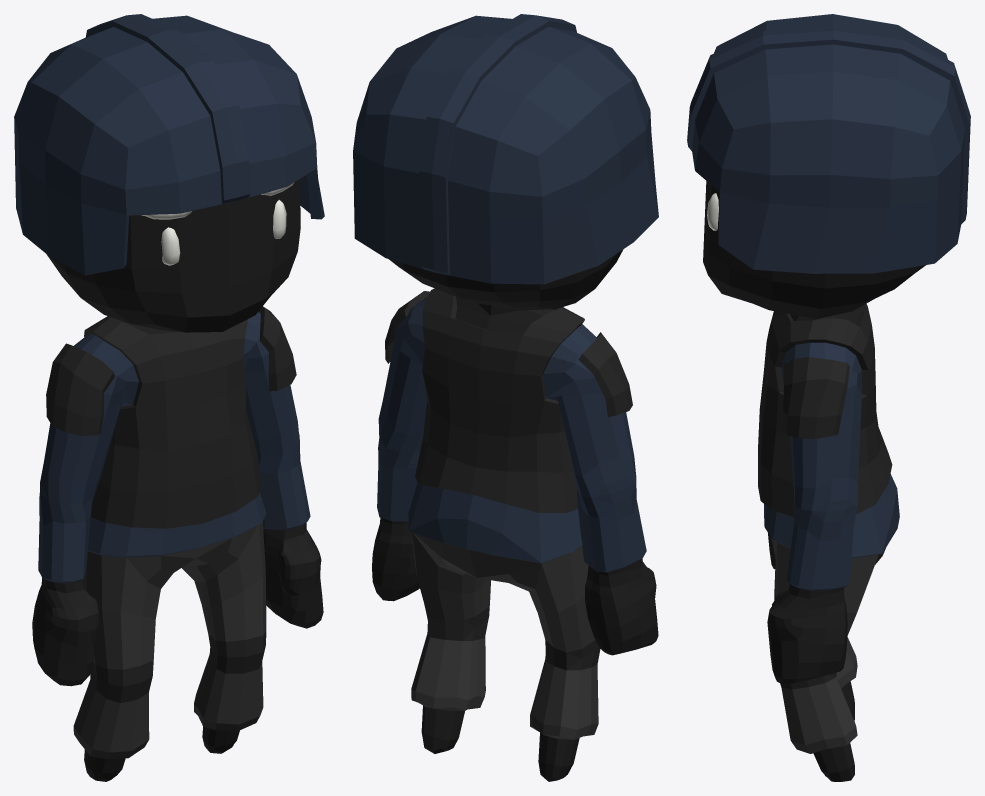
File: BlueSoldier_Male.gltf
The picture shows the model from 3 angles, left to right: view 1: azimuth 30°, elevation 25°; view 2: azimuth 150°, elevation 25°; view 3: azimuth 270°, elevation 25°; orthographic projection.
Visible parts, largest first — view 1: Body_Cube.004; view 2: Body_Cube.004; view 3: Body_Cube.004.
Part boxes in pixels (left/top/right/bottom): Body_Cube.004: left=14, top=14, right=324, bottom=781; Body_Cube.004: left=353, top=14, right=658, bottom=781; Body_Cube.004: left=687, top=14, right=970, bottom=781.
Bounding box in the file's own units: 1.28 × 3.24 × 1.15.
